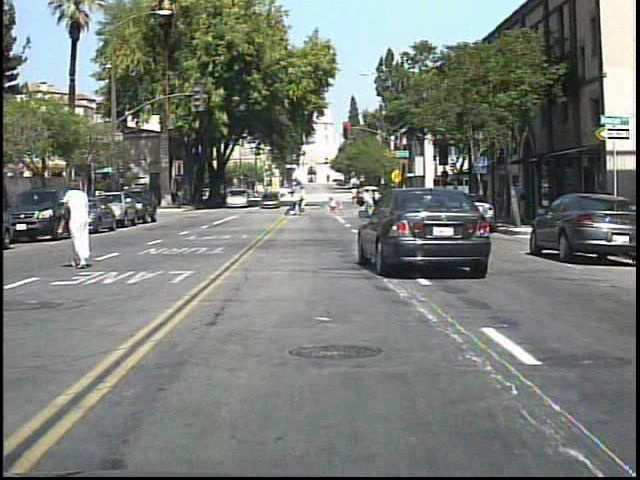person: (58, 178, 102, 271), (508, 175, 532, 227), (296, 183, 312, 218)
